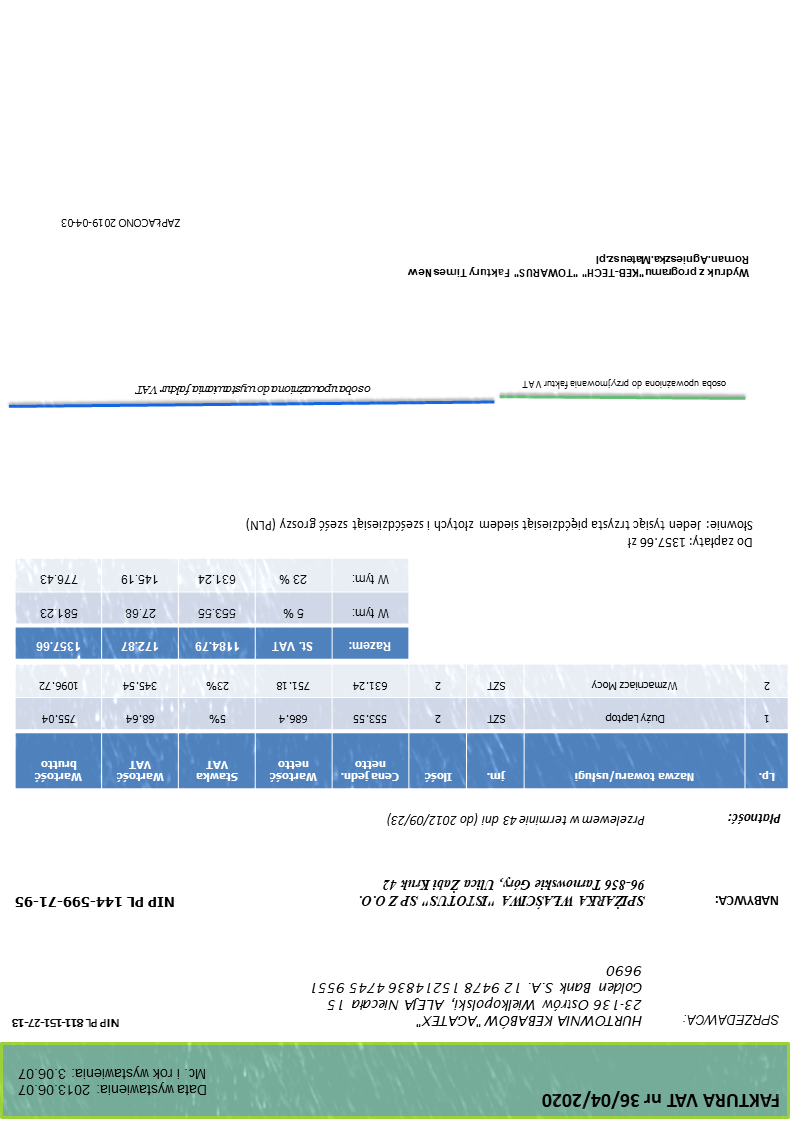Table: (14, 664, 790, 791), (15, 558, 410, 659)
TextBox: (309, 960, 646, 1031), (244, 512, 756, 551), (357, 876, 648, 911), (405, 252, 751, 281), (15, 1063, 211, 1099), (540, 1089, 783, 1112), (386, 812, 649, 830), (133, 381, 374, 399), (520, 378, 728, 391), (15, 894, 178, 910), (59, 215, 184, 232), (683, 1012, 782, 1032), (10, 1016, 123, 1031), (712, 893, 782, 909), (726, 810, 784, 828)
